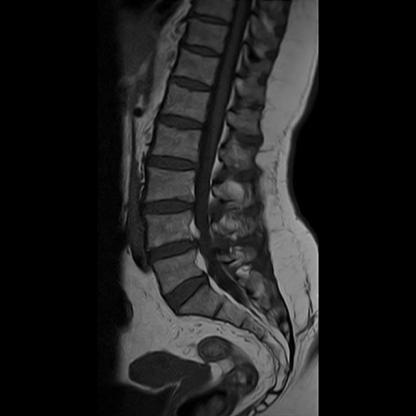Disc Bulgerotation: (143, 239, 207, 264), (139, 194, 200, 220), (143, 151, 204, 175)
